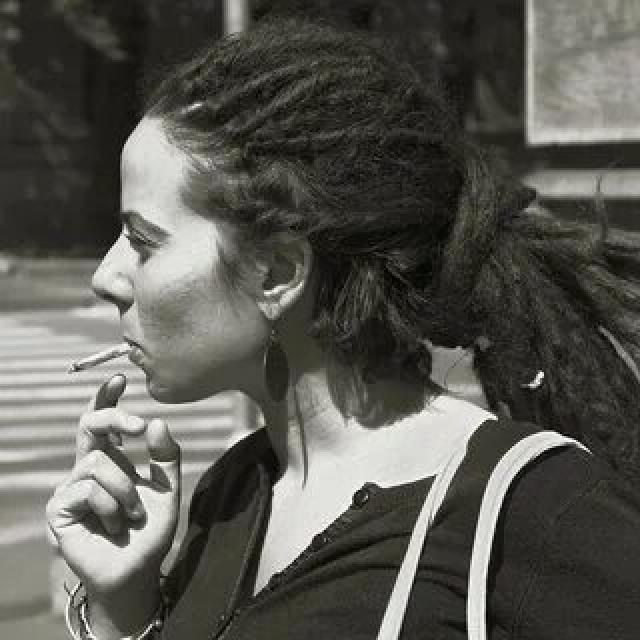cigarette: (68, 336, 140, 382)
